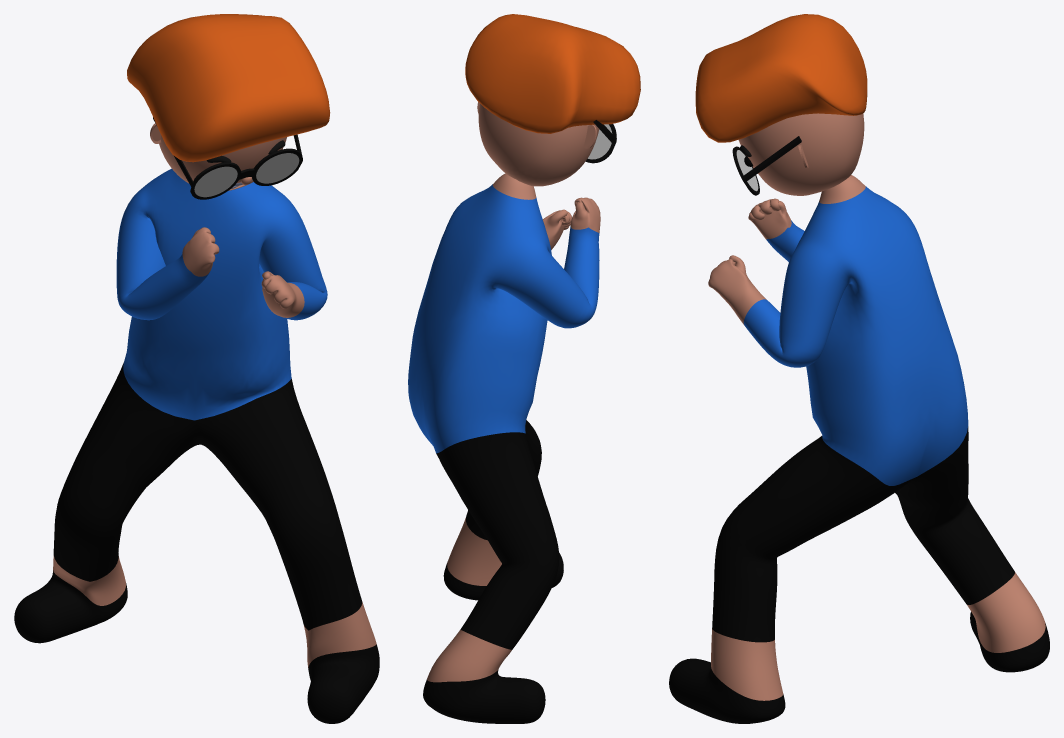
The model's file is threeJs.obj.
The picture shows the model from 3 angles, left to right: view 1: azimuth 30°, elevation 25°; view 2: azimuth 150°, elevation 25°; view 3: azimuth 270°, elevation 25°; orthographic projection. The views are drawn at different scales.
Parts seen in each view (by area): view 1: Cube.007_Cube.006; view 2: Cube.007_Cube.006; view 3: Cube.007_Cube.006.
Part boxes in pixels (x1,y1,x2,y2): Cube.007_Cube.006: [14, 14, 379, 723]; Cube.007_Cube.006: [408, 14, 640, 723]; Cube.007_Cube.006: [669, 14, 1049, 723].
Bounding box in the file's own units: 0.915 × 2.57 × 1.36.
